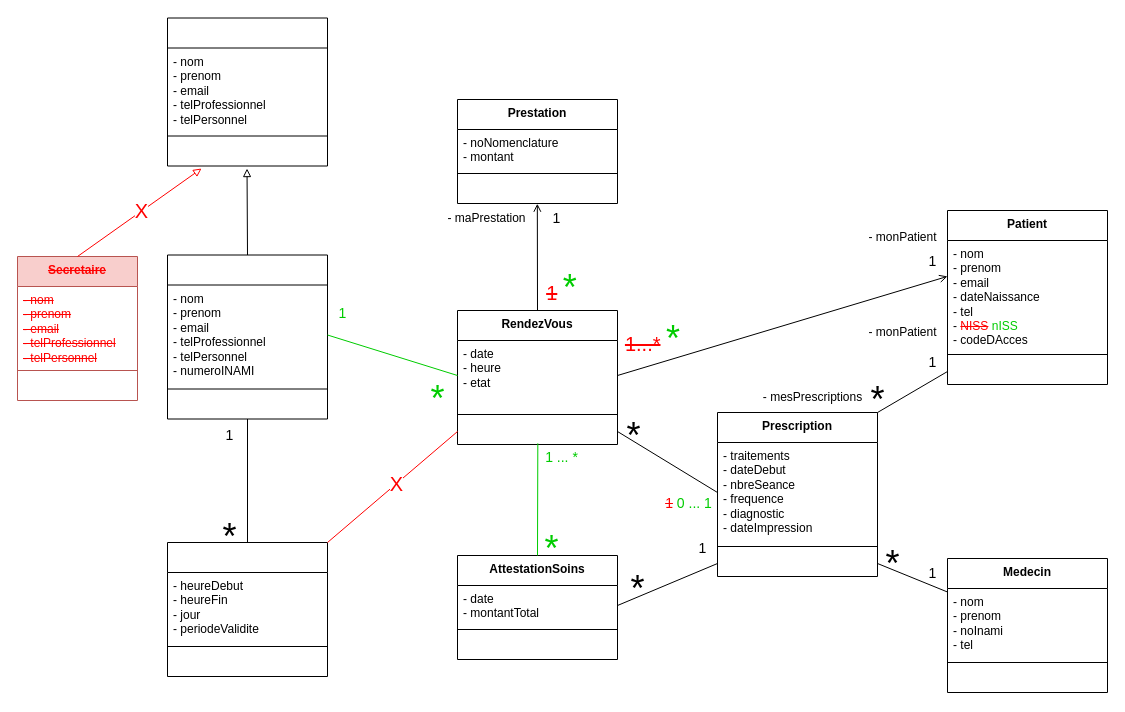
Some shapes in this 1125 by 712 pixel diagram are drawn without their labels. Each missing label, with the box of its shape:
Disponibilite: (166, 542, 328, 676)
Kinesitherapeute: (166, 254, 328, 419)
Utilisateur: (166, 17, 328, 166)
